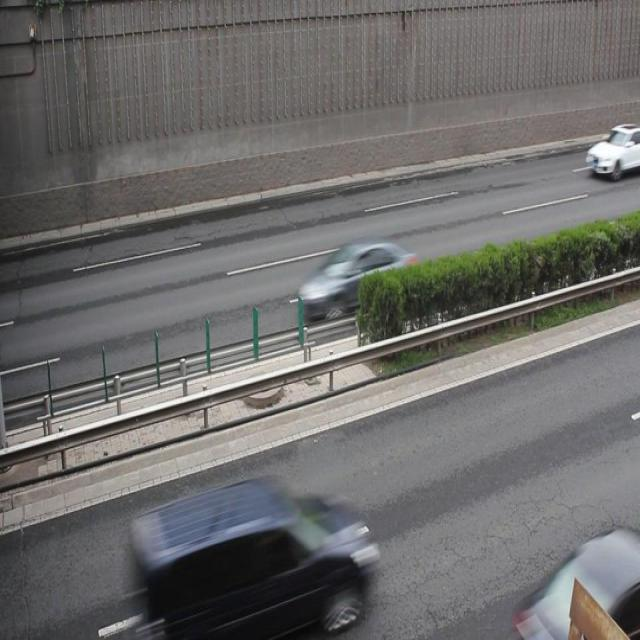car: (520, 533, 640, 639), (298, 239, 417, 319), (584, 123, 640, 176)
truck: (131, 471, 371, 640)
